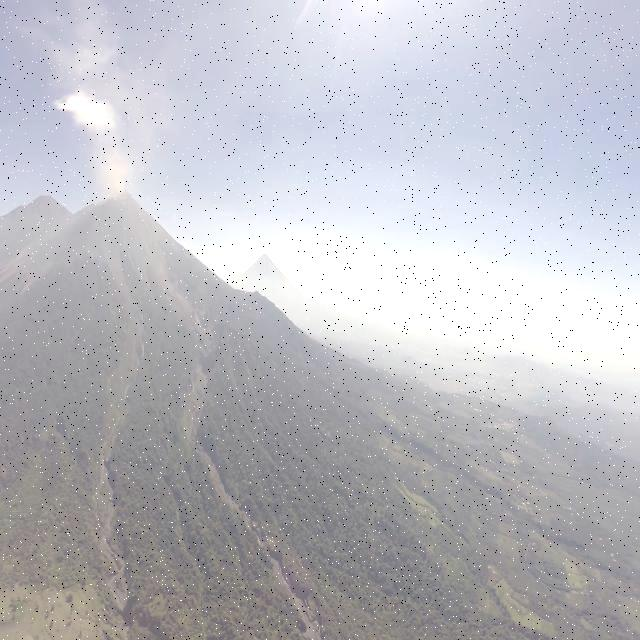Plume: (56, 80, 138, 200), (54, 85, 124, 146)
